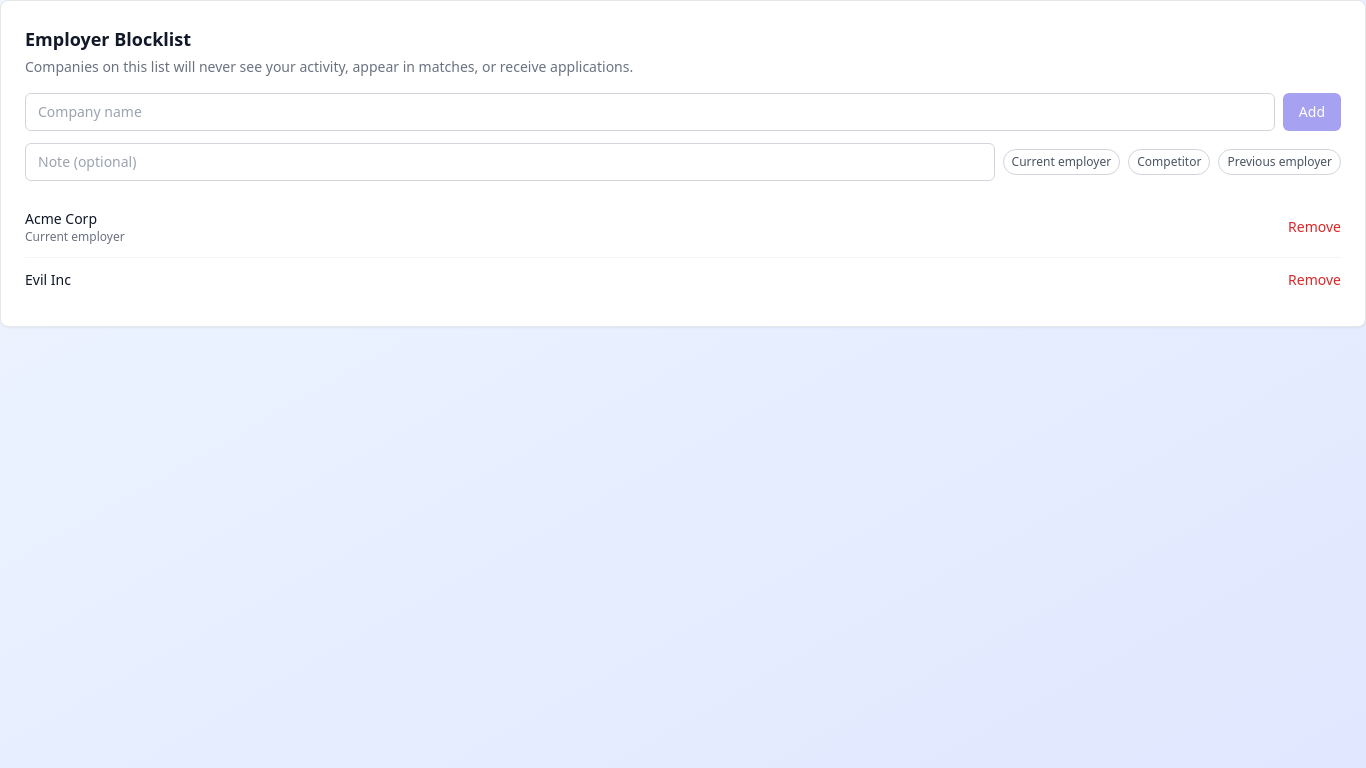
Scenario: BlocklistManager › sets note when clicking preset
This screenshot has width=1366, height=768.
// Click the "Previous employer" preset (unique — no entry has this note)
Click the button "Previous employer" at (1280, 162), box [1218,149,1341,175]
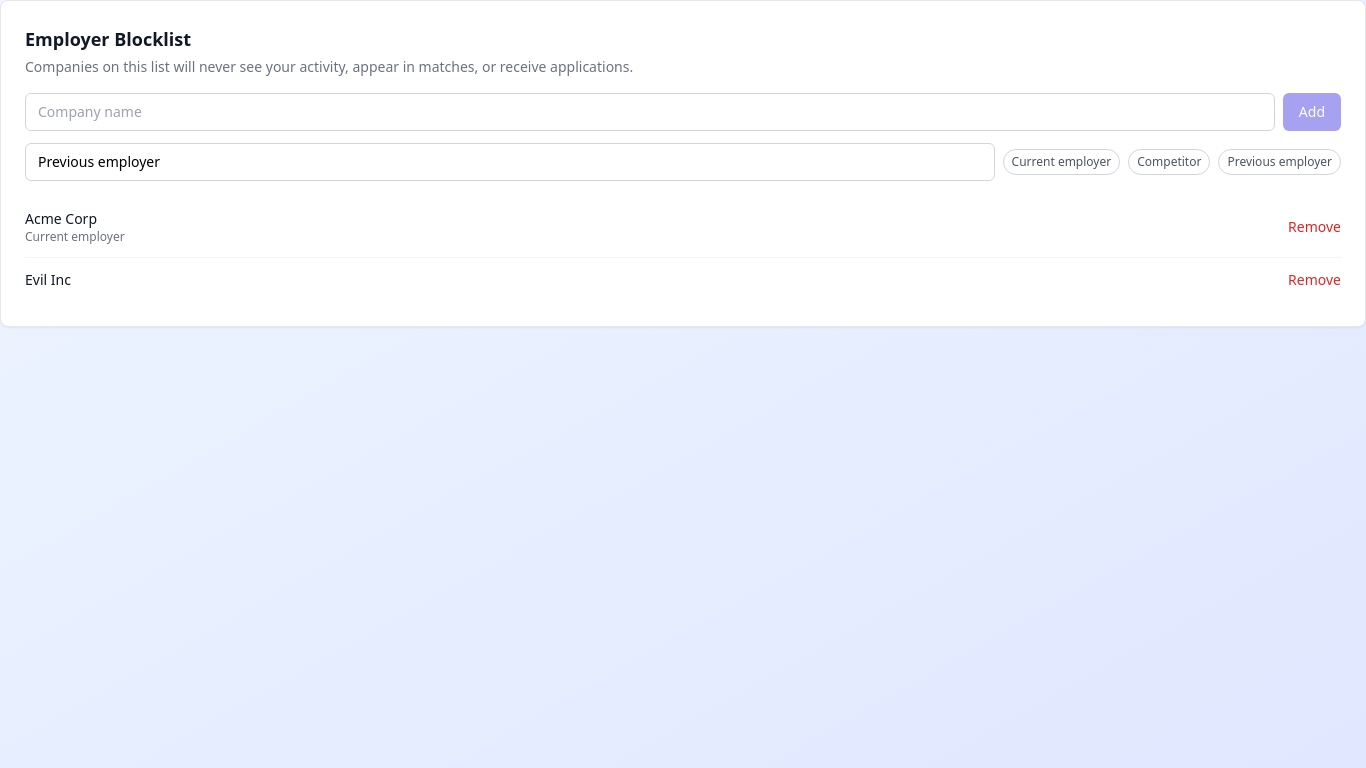
Expected: the field with test id "blocklist-note-input" holds "Previous employer", [25,143,995,181]
